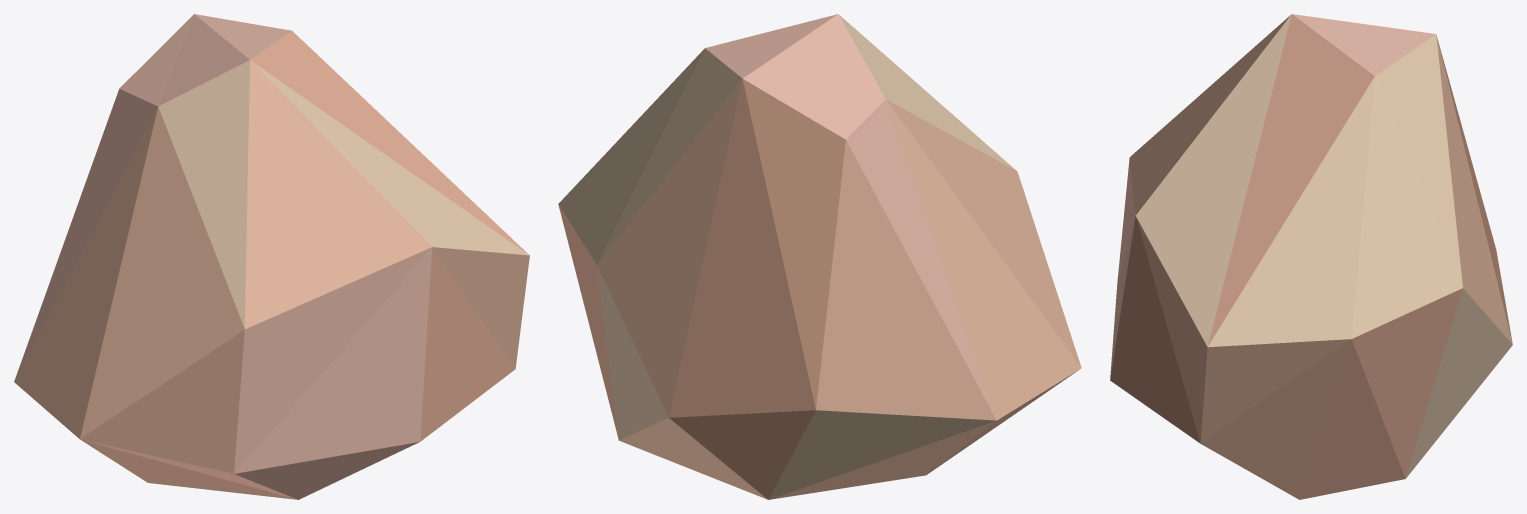
Rendered from Iron Ore Chunk.glb.
3 views of the same model, side by side, from view 1: azimuth 30°, elevation 25°; view 2: azimuth 150°, elevation 25°; view 3: azimuth 270°, elevation 25° (orthographic). The views are drawn at different scales.
Parts seen in each view (by area): view 1: Iron Ore Chunk.Static; view 2: Iron Ore Chunk.Static; view 3: Iron Ore Chunk.Static.
Boxes of the visible parts, x1,y1,x2,y2 form: Iron Ore Chunk.Static: (14,14,529,499); Iron Ore Chunk.Static: (558,14,1081,499); Iron Ore Chunk.Static: (1110,14,1512,499).
Bounding box in the file's own units: 0.3715 × 0.3308 × 0.3003.
